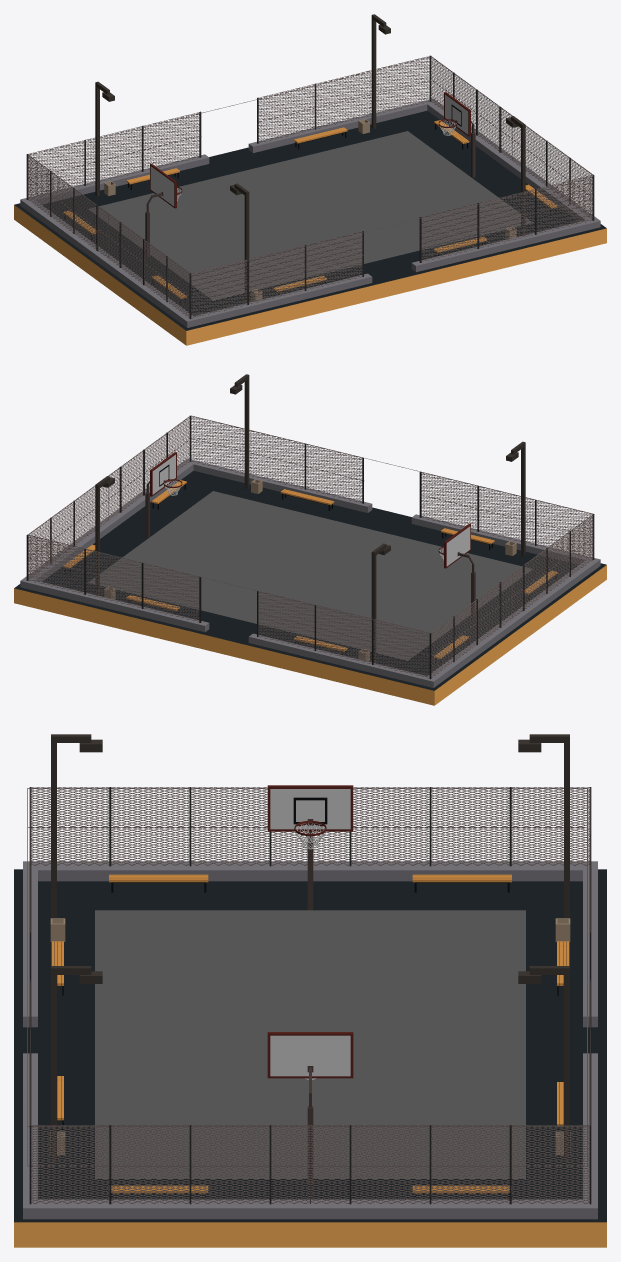
The model's file is bball court.obj.
3 renders of one model, top to bottom at view 1: azimuth 30°, elevation 25°; view 2: azimuth 150°, elevation 25°; view 3: azimuth 270°, elevation 25°, orthographic. The views are drawn at different scales.
Visible parts, largest first — view 1: Base, Court, Light_Pillars, Benches, Basketball_Stand, Mesh_Bars, Dust_Bin; view 2: Base, Court, Light_Pillars, Benches, Basketball_Stand, Mesh_Bars, Dust_Bin; view 3: Base, Court, Basketball_Stand, Light_Pillars, Benches, Mesh_Bars, Dust_Bin.
Boxes of the visible parts, <box> form: Base: <box>14,55,606,345</box>; Court: <box>88,131,532,300</box>; Light_Pillars: <box>95,14,525,302</box>; Benches: <box>63,120,557,304</box>; Basketball_Stand: <box>145,92,475,256</box>; Mesh_Bars: <box>28,57,594,297</box>; Dust_Bin: <box>104,119,516,301</box>; Base: <box>14,415,606,705</box>; Court: <box>88,491,532,660</box>; Light_Pillars: <box>95,374,525,662</box>; Benches: <box>63,480,557,664</box>; Basketball_Stand: <box>145,452,475,616</box>; Mesh_Bars: <box>29,415,593,655</box>; Dust_Bin: <box>104,479,516,661</box>; Base: <box>14,787,606,1247</box>; Court: <box>95,910,525,1178</box>; Basketball_Stand: <box>267,785,353,1183</box>; Light_Pillars: <box>51,734,569,1162</box>; Benches: <box>51,874,569,1199</box>; Mesh_Bars: <box>27,788,587,1166</box>; Dust_Bin: <box>50,918,570,1155</box>.
Size of the model in its own units: 3.44 by 1 by 2.44.
